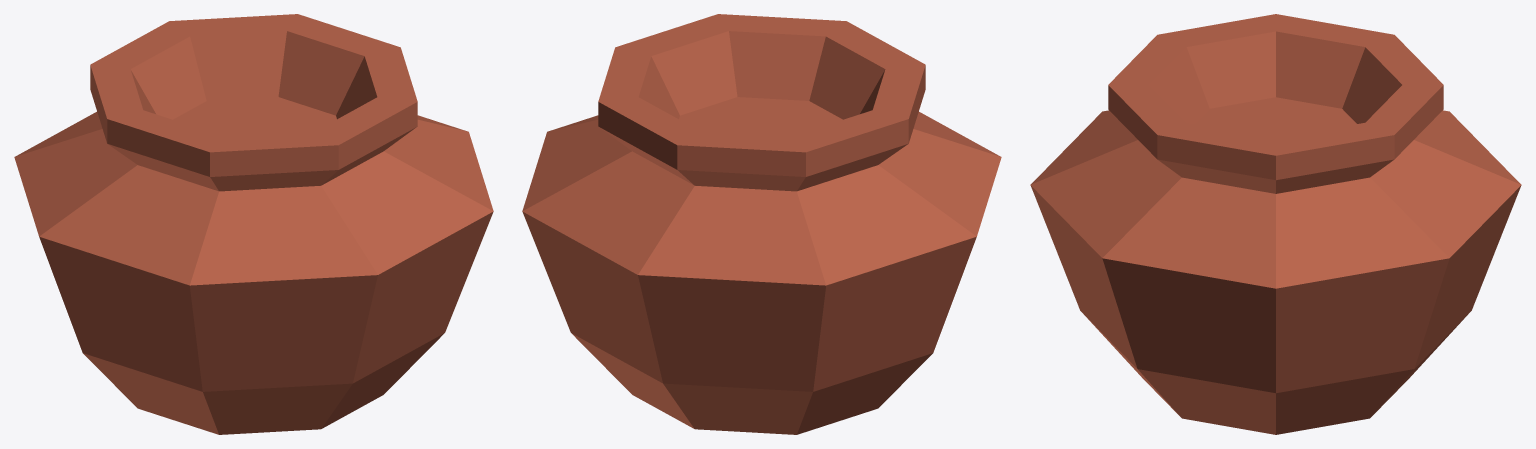
File: pot_3.fbx
The picture shows the model from 3 angles, left to right: view 1: azimuth 30°, elevation 25°; view 2: azimuth 150°, elevation 25°; view 3: azimuth 270°, elevation 25°; orthographic projection.
Parts seen in each view (by area): view 1: pot_3; view 2: pot_3; view 3: pot_3.
Part boxes in pixels (bbox=[...]): pot_3: bbox=[14, 14, 493, 434]; pot_3: bbox=[522, 14, 1001, 434]; pot_3: bbox=[1030, 14, 1521, 434].
Size of the model in its own units: 86.6 by 57.17 by 86.6.
